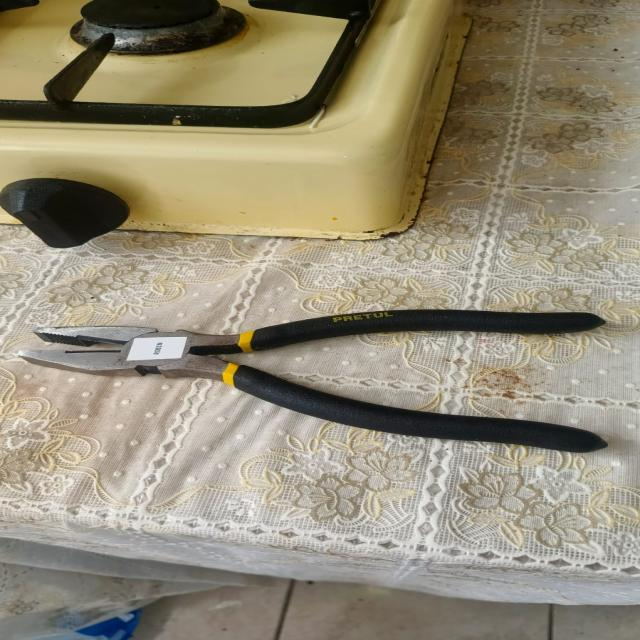alicate: (17, 289, 622, 470)
